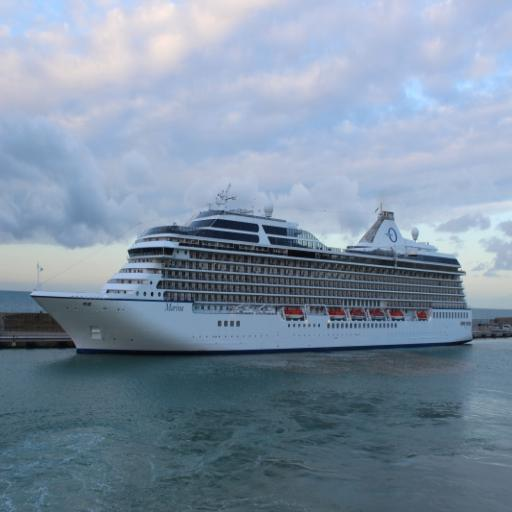cruises: (30, 178, 478, 367)
